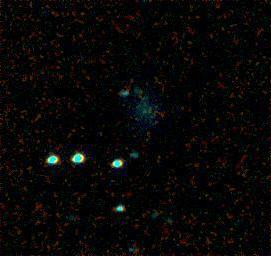star: (129, 87, 159, 117)
